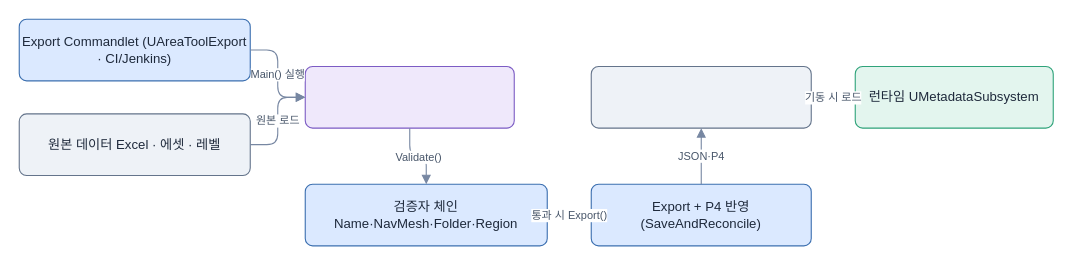
The diagram is 1073 pixels wide and 265 high, and some of its shapes have lost their labels. The box of each missing label's shape, as (x1, y1, x2, y2) in pixels:
AreaTool Generator (FAreaToolJsonGenerator): (304, 65, 514, 128)
Generated 메타데이터 (RidType 키): (590, 65, 811, 128)
